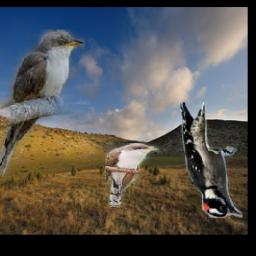Cuckoo: (0, 29, 85, 177), (105, 144, 159, 209)
Woodpecker: (180, 102, 242, 218)
